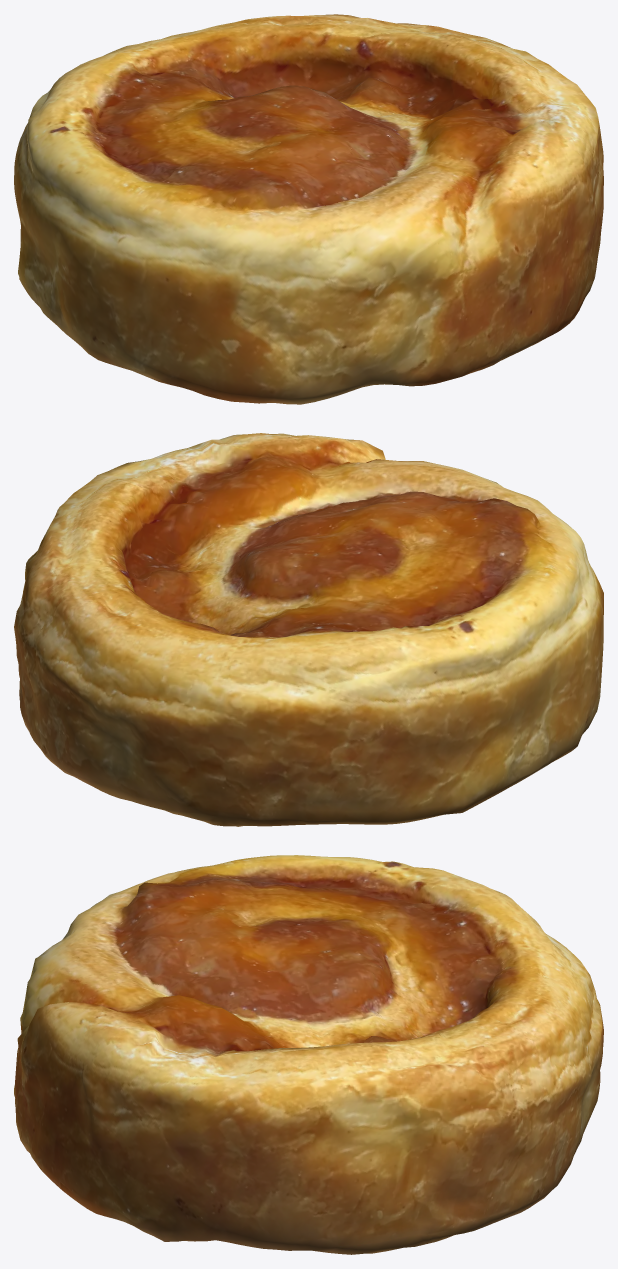
File: pastrysample.glb
3 renders of one model, top to bottom at view 1: azimuth 30°, elevation 25°; view 2: azimuth 150°, elevation 25°; view 3: azimuth 270°, elevation 25°, orthographic.
Parts seen in each view (by area): view 1: Pastryobjcleanermaterialmergergles; view 2: Pastryobjcleanermaterialmergergles; view 3: Pastryobjcleanermaterialmergergles.
Part boxes in pixels (x1,y1,x2,y2): Pastryobjcleanermaterialmergergles: [14, 14, 603, 404]; Pastryobjcleanermaterialmergergles: [14, 433, 603, 826]; Pastryobjcleanermaterialmergergles: [14, 855, 603, 1254].
Size of the model in its own units: 0.6548 by 0.2372 by 0.6548.
1 material, 1 textured.
